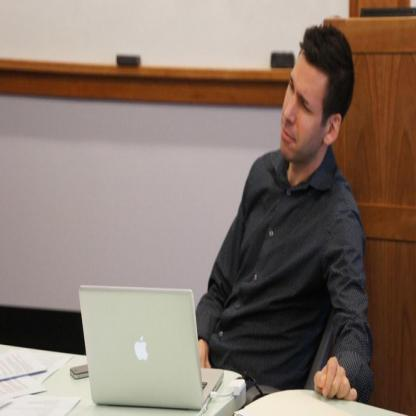board: (83, 281, 222, 410)
